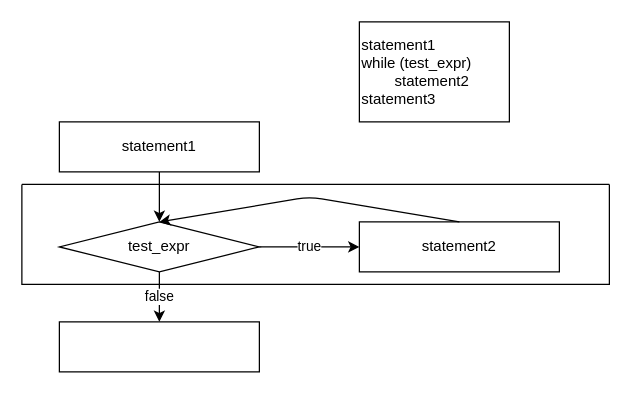
This 631x394 diagram has some shape labels left out. Here are the shapes that lost their labels. From the top down, the centre of each, then its label:
At point (315, 233): "while loop".
At point (158, 346): "statement3".
